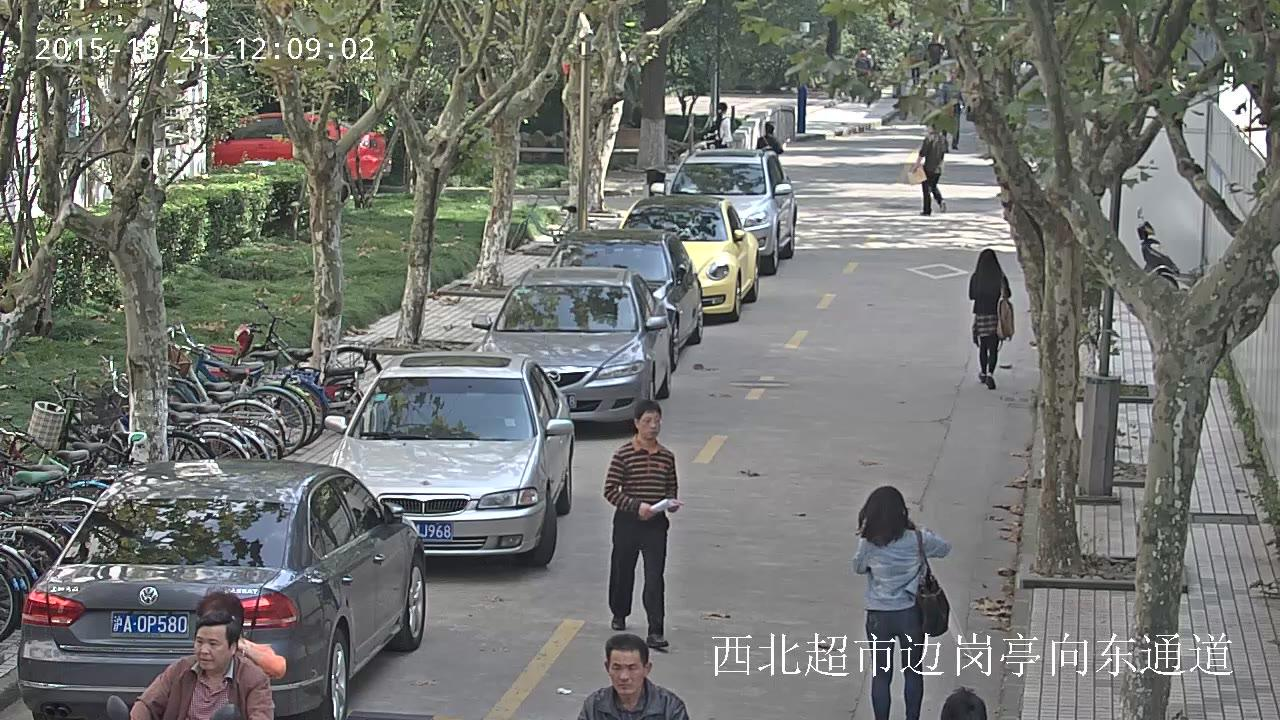person: (852, 486, 952, 720), (603, 399, 682, 647), (106, 608, 276, 720), (130, 610, 275, 720), (575, 633, 687, 719), (969, 248, 1014, 390), (907, 121, 946, 215), (705, 102, 732, 148), (756, 123, 782, 156)
